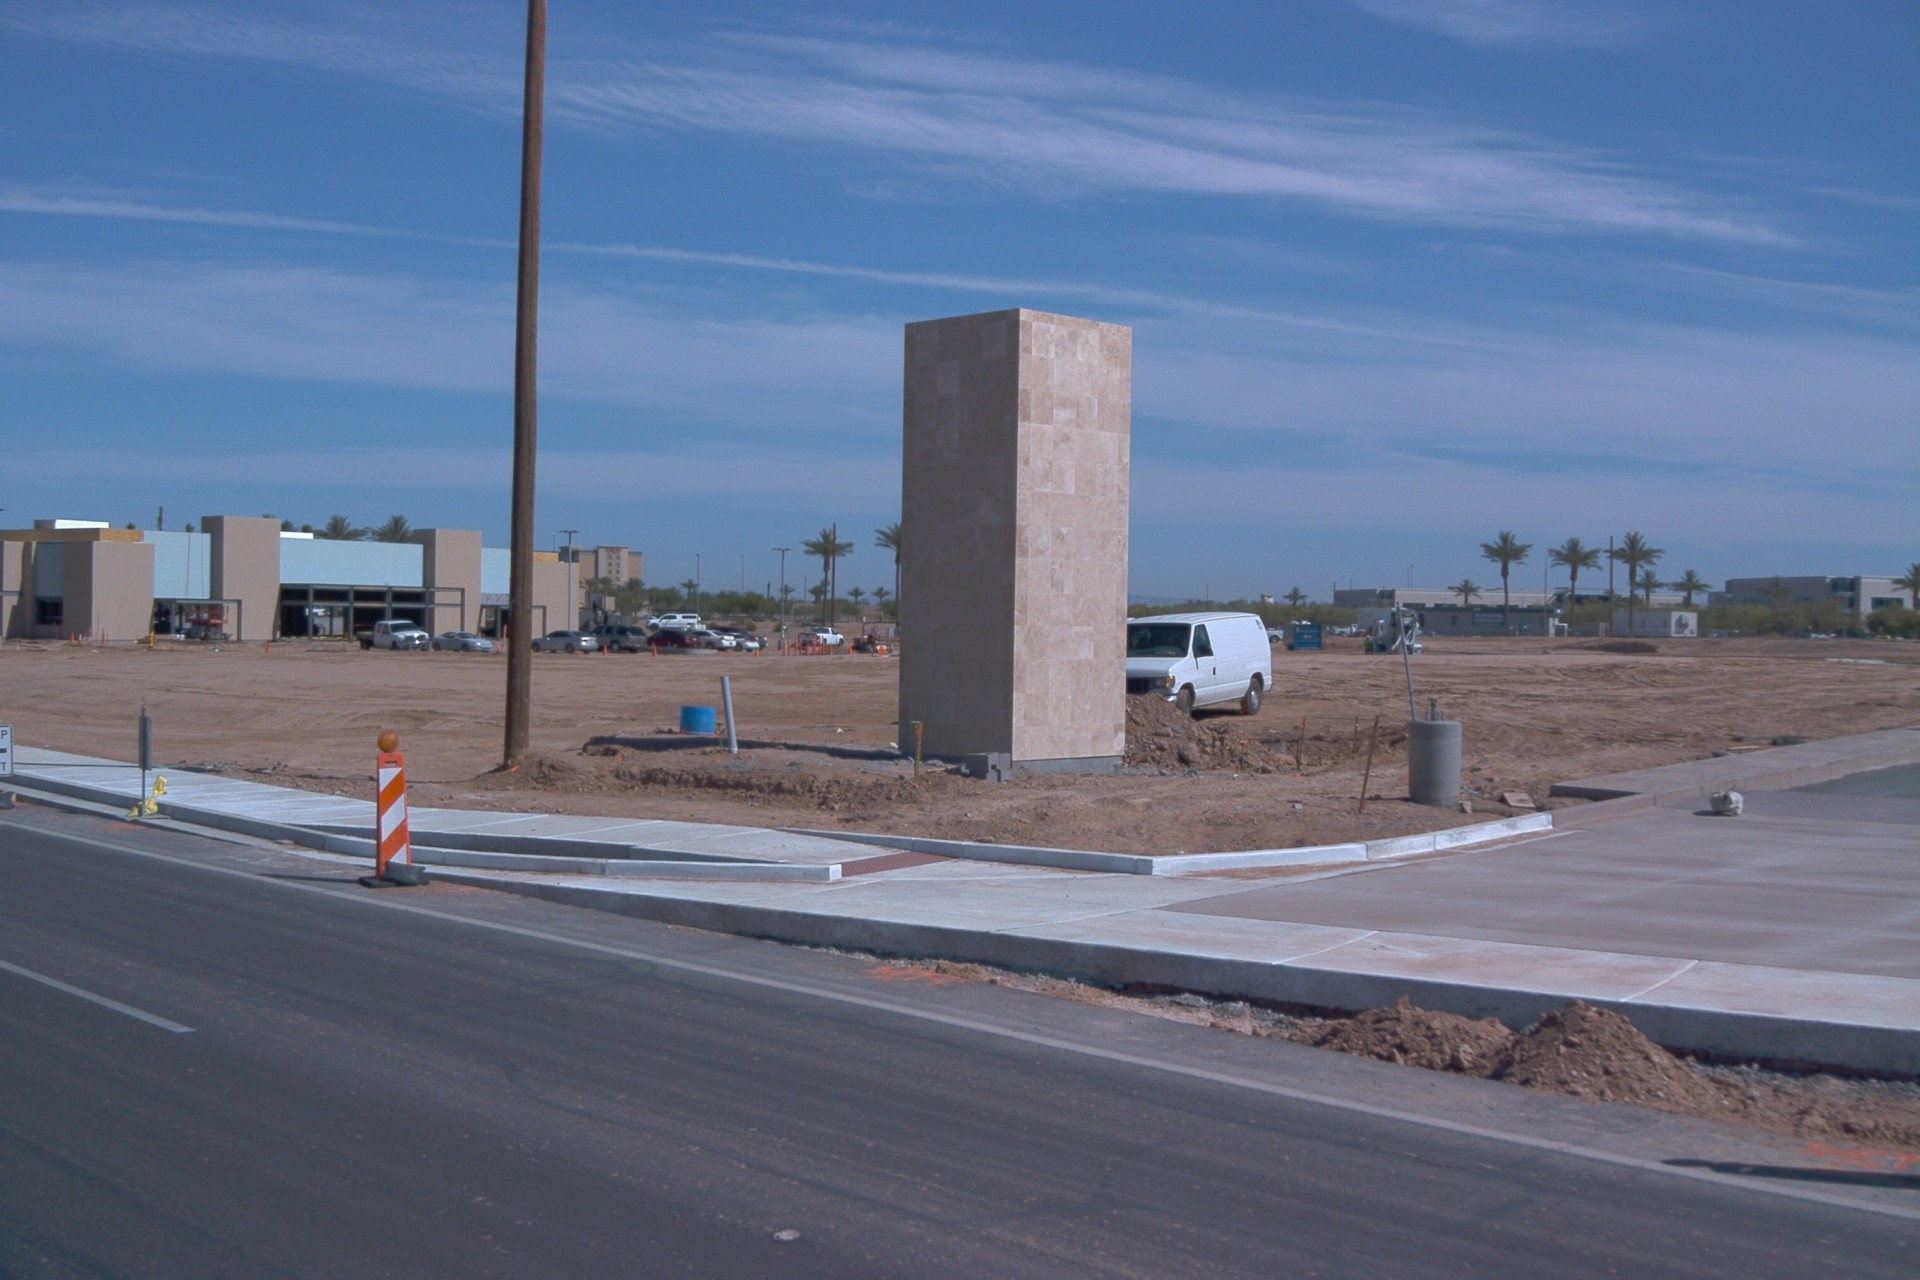TYPE_PEDESTRIAN: (779, 623, 792, 652), (1364, 633, 1376, 655)
TYPE_VEHICLE: (1123, 611, 1272, 721), (1359, 609, 1424, 661), (356, 621, 432, 655), (586, 622, 650, 659), (529, 627, 599, 656), (709, 627, 766, 653), (645, 628, 703, 653), (430, 630, 494, 651), (647, 613, 704, 632), (798, 626, 847, 647), (691, 630, 739, 651), (721, 629, 760, 652), (1331, 626, 1357, 639), (1269, 630, 1288, 646), (681, 623, 707, 634), (306, 608, 329, 619)
